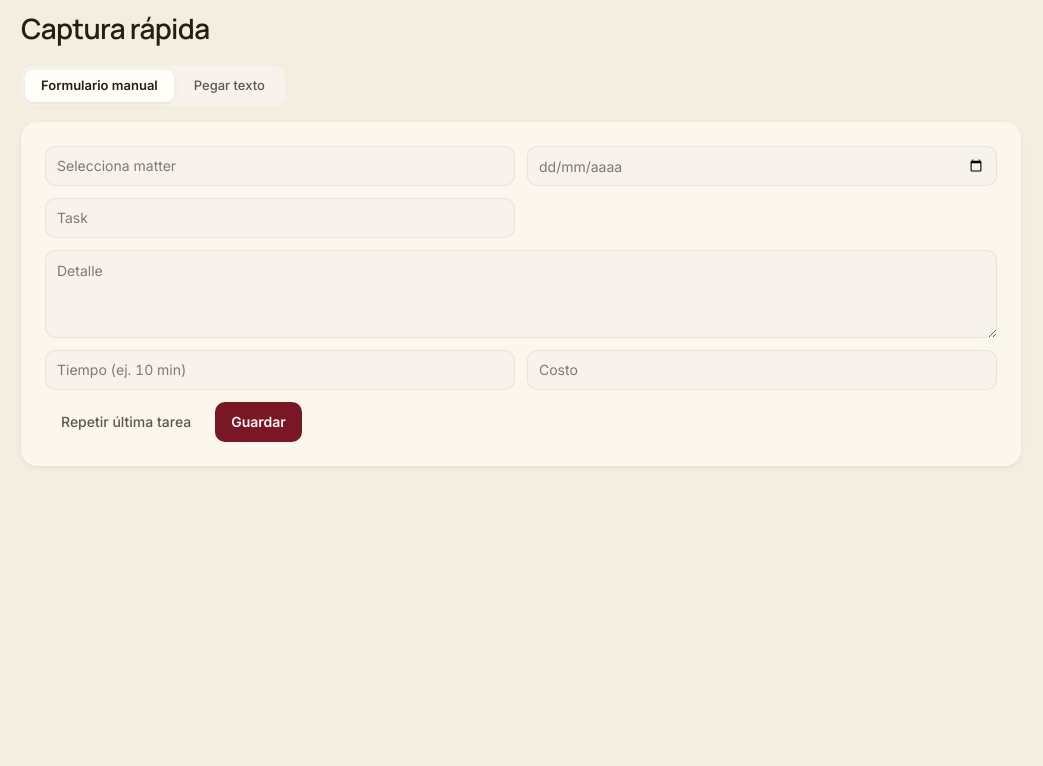
Home › paste mode: a candidate with no date cannot be confirmed
Click the button "Pegar texto". click: [229, 86]
box: [178,70,281,102]
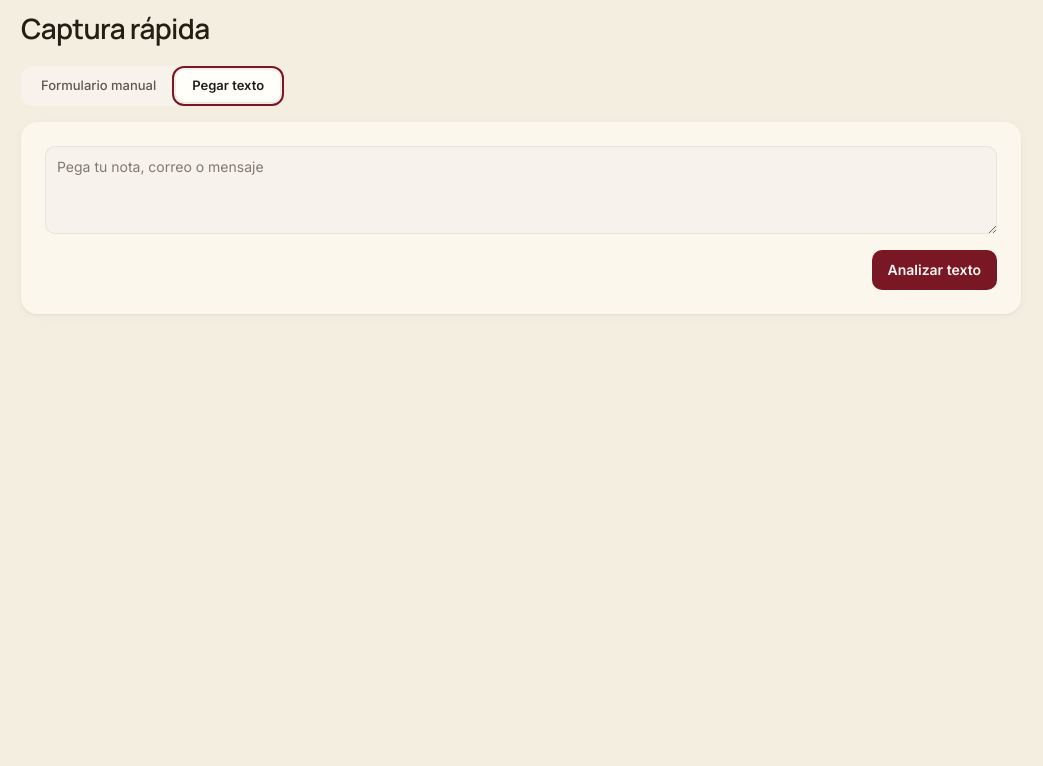
Type "Reviewed filing, no date here" into the text box named "texto a pegar". click: [521, 190]
box: [45,146,997,234]
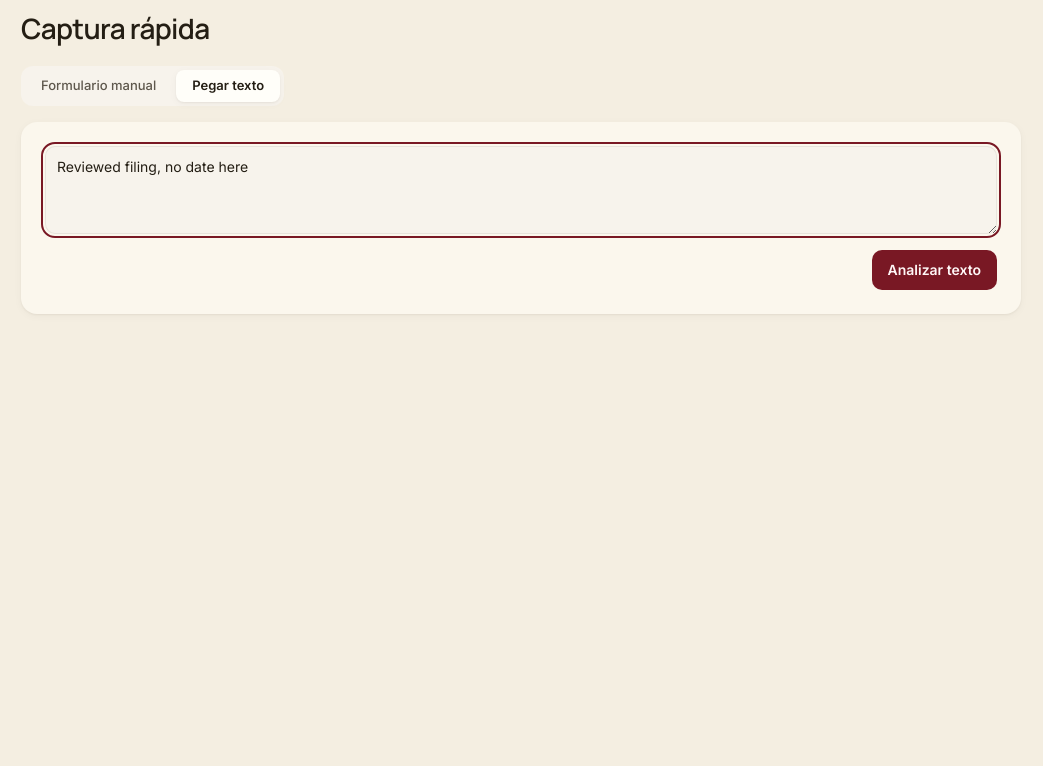
Click the button "Analizar texto". click: [934, 270]
box: [872,250,997,290]
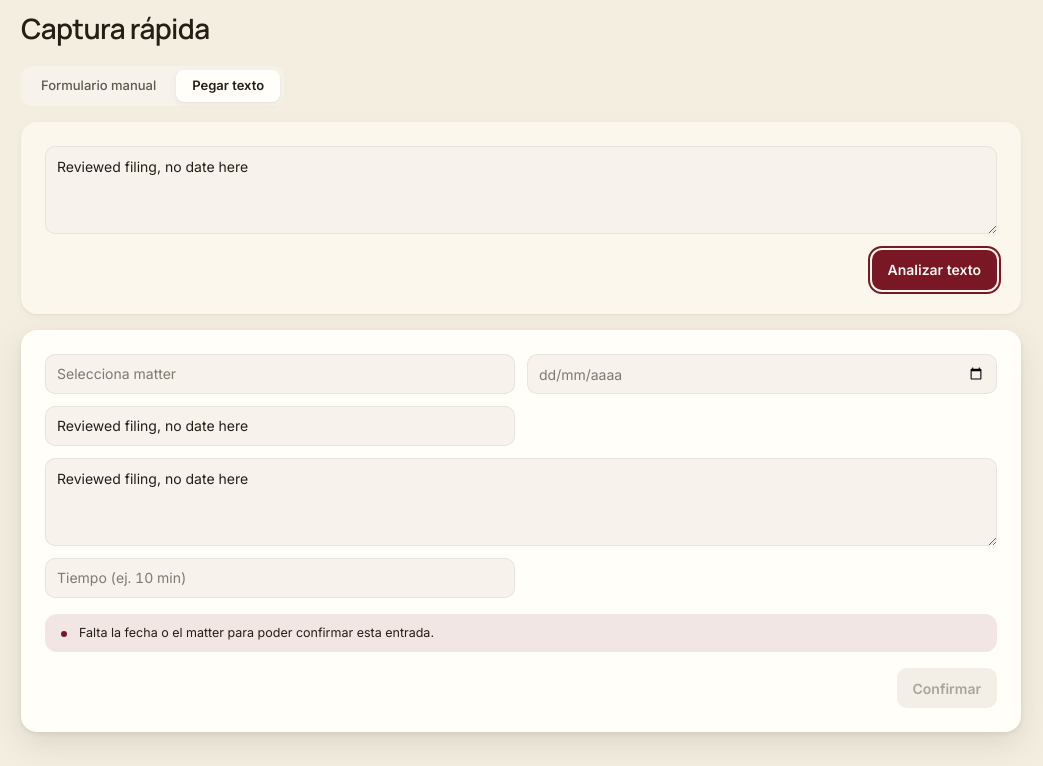
Click the dropdown named "matter sugerido 0". click: [280, 374]
box: [45,354,515,394]
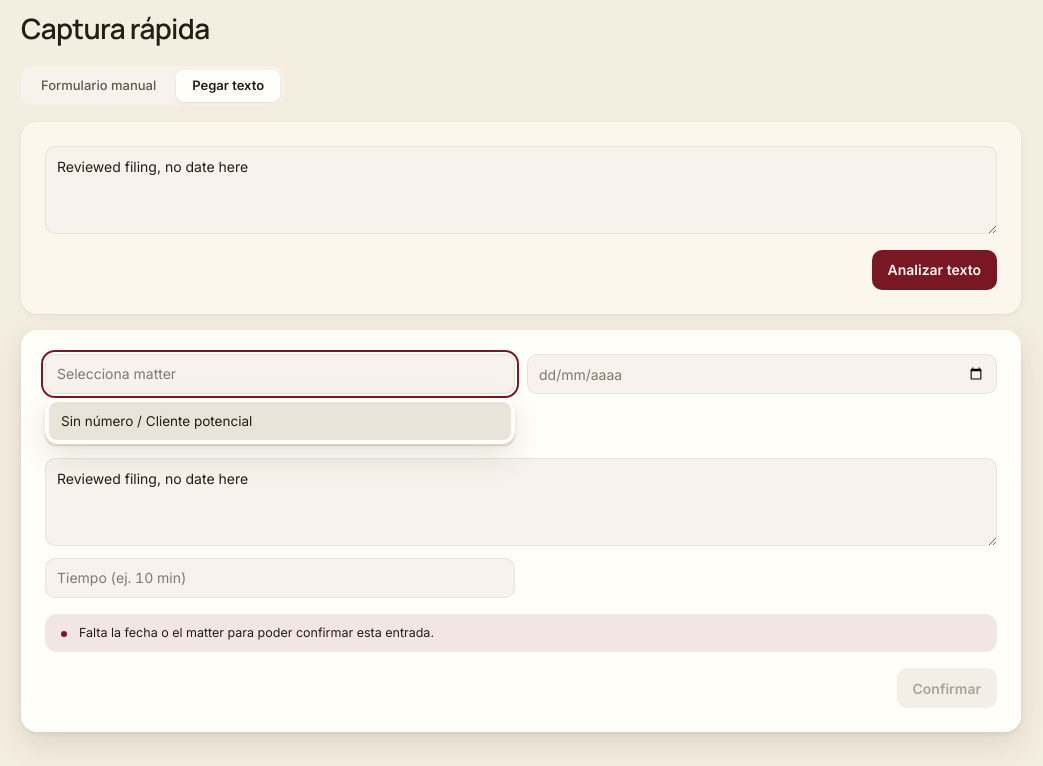
Click the option "Sin número / Cliente potencial". click: [157, 421]
box: [49,402,511,440]
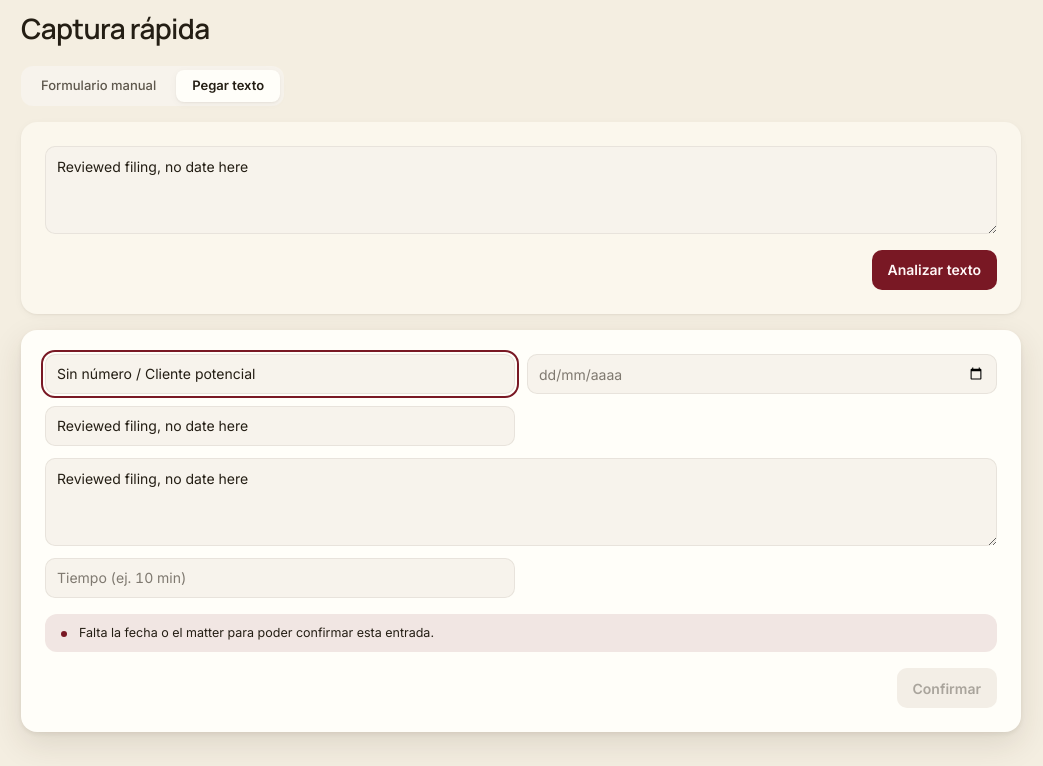
Now the button "Confirmar" is disabled, box [896,668,997,708]
Type "2026-08-03" into the date field named "fecha sugerido 0". click: [762, 374]
box: [527,354,997,394]
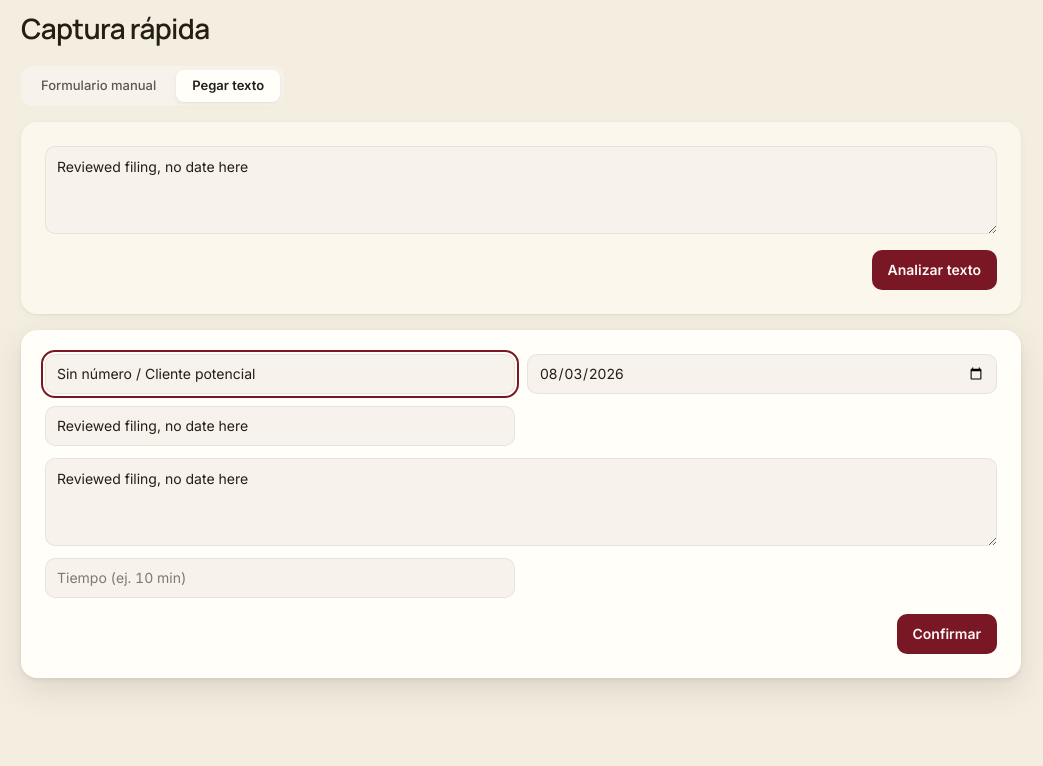
Now the button "Confirmar" is enabled, box [896,614,997,654]
